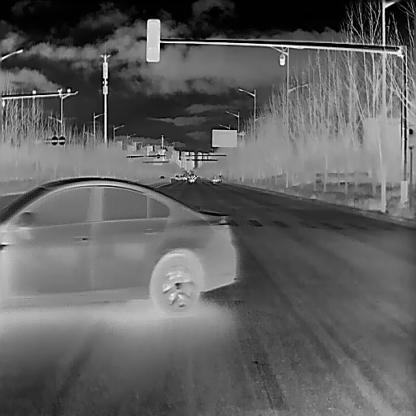car: (0, 168, 237, 313), (182, 174, 186, 180), (174, 174, 178, 179)
